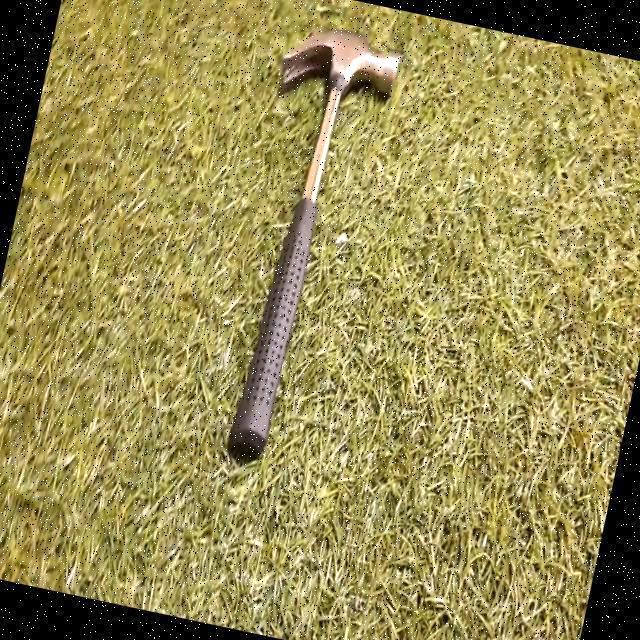hammer: (208, 35, 406, 473)
